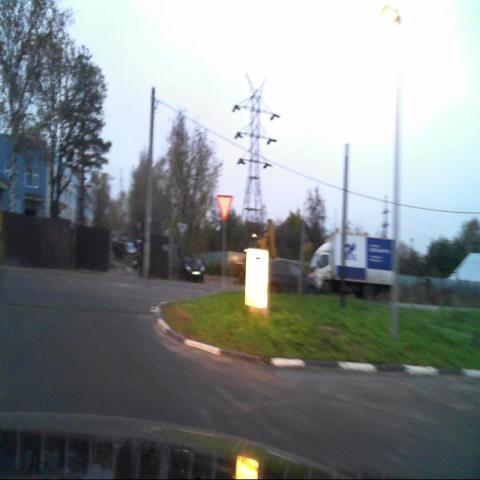2_4: (216, 195, 232, 221)
